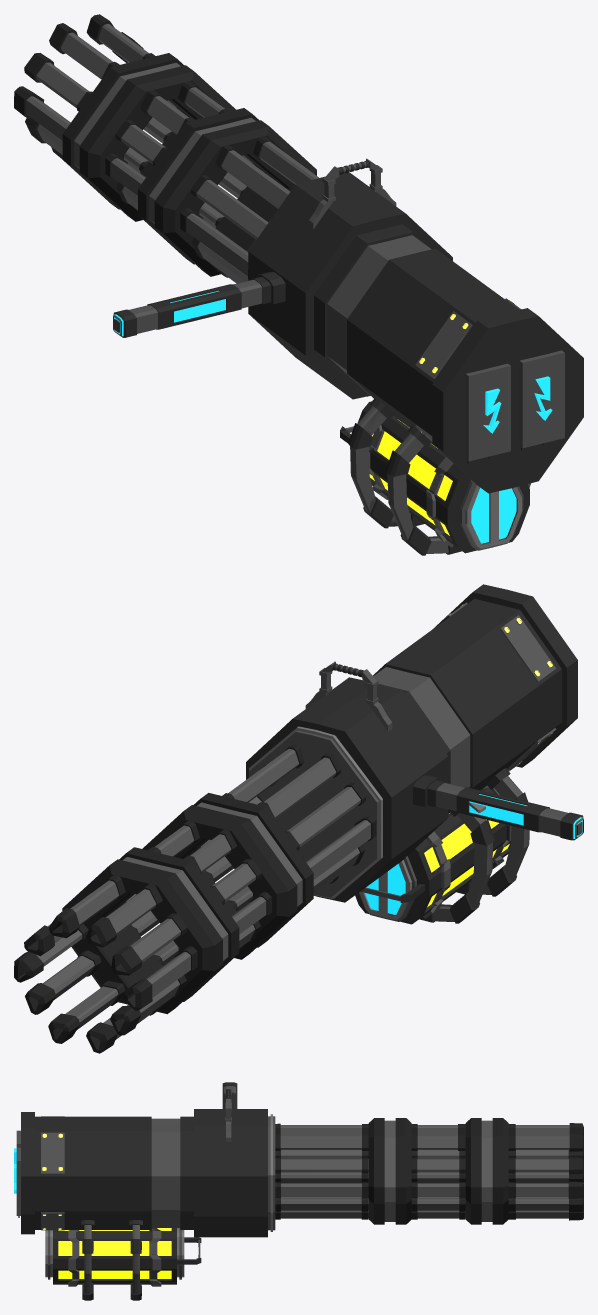
The model's file is SG_78 Remake_Complete.fbx.
The picture shows the model from 3 angles, top to bottom: view 1: azimuth 30°, elevation 25°; view 2: azimuth 150°, elevation 25°; view 3: azimuth 270°, elevation 25°; orthographic projection. The views are drawn at different scales.
Visible parts, largest first — view 1: Cube.003, Cube.001; view 2: Cube.003, Cube.001; view 3: Cube.003, Cube.001.
Boxes of the visible parts, x1=… form: Cube.003: x1=113, y1=158, x2=583, y2=555; Cube.001: x1=14, y1=14, x2=318, y2=283; Cube.003: x1=246, y1=584, x2=583, y2=924; Cube.001: x1=14, y1=744, x2=376, y2=1053; Cube.003: x1=14, y1=1082, x2=275, y2=1300; Cube.001: x1=275, y1=1118, x2=583, y2=1224.
Bounding box in the file's own units: 0.7797 × 0.7303 × 1.91.
Materials: 2 (2 with a texture image).
